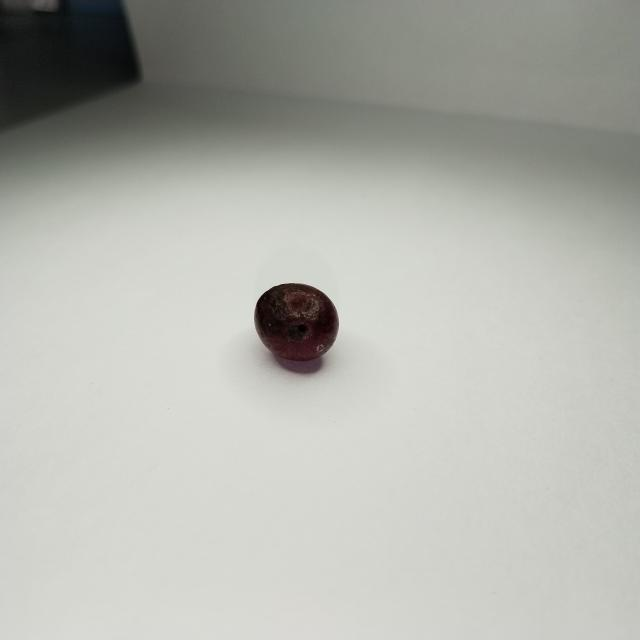Infectado: (255, 284, 340, 365)
